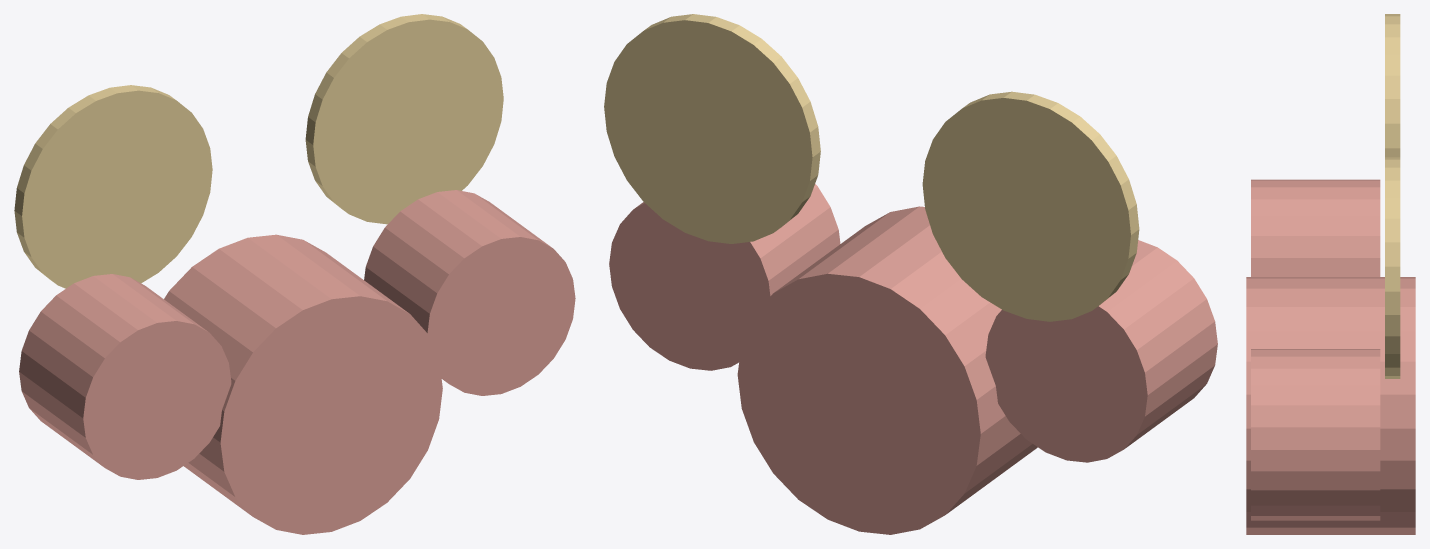
Rendered from drum_set.glb.
3 views of the same model, side by side, from view 1: azimuth 30°, elevation 25°; view 2: azimuth 150°, elevation 25°; view 3: azimuth 270°, elevation 25° (orthographic). The views are drawn at different scales.
Parts seen in each view (by area): view 1: part_00, part_01, part_04, part_03, part_02; view 2: part_00, part_03, part_04, part_01, part_02; view 3: part_02, part_00, part_01, part_04, part_03.
Part boxes in pixels (x1=…): part_00: x1=164, y1=234, x2=442, y2=534; part_01: x1=19, y1=274, x2=231, y2=479; part_04: x1=305, y1=14, x2=503, y2=224; part_03: x1=14, y1=85, x2=212, y2=288; part_02: x1=364, y1=190, x2=575, y2=395; part_00: x1=737, y1=206, x2=1037, y2=534; part_03: x1=922, y1=91, x2=1139, y2=321; part_04: x1=604, y1=14, x2=820, y2=243; part_01: x1=985, y1=240, x2=1217, y2=462; part_02: x1=609, y1=184, x2=840, y2=370; part_02: x1=1251, y1=349, x2=1380, y2=520; part_00: x1=1246, y1=277, x2=1415, y2=534; part_01: x1=1251, y1=179, x2=1380, y2=276; part_04: x1=1385, y1=157, x2=1400, y2=378; part_03: x1=1385, y1=14, x2=1400, y2=157.
Size of the model in its own units: 1.86 by 1.53 by 0.55.
